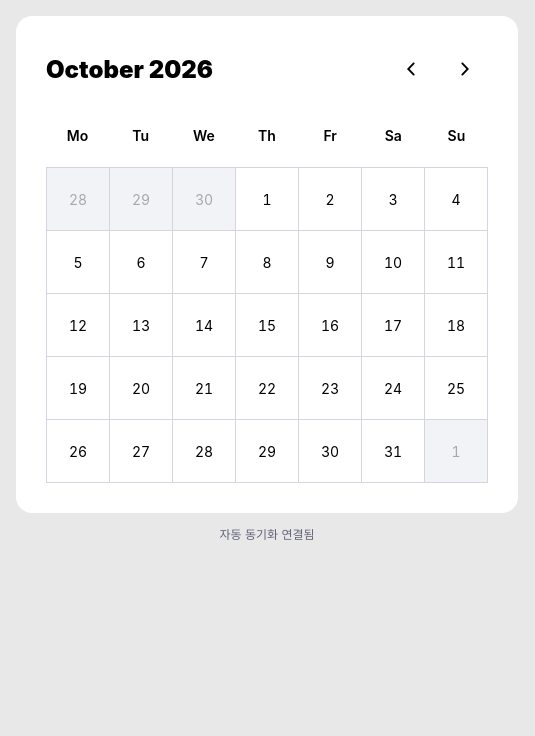
Scenario: 초기 미선택·기존 저장 키만 삭제·월 이동 초기화·StrictMode 구독 정리
Click the button named "2026년 10월 7일 수요일".
click(204, 262)  # box left=173, top=231, right=235, bottom=293
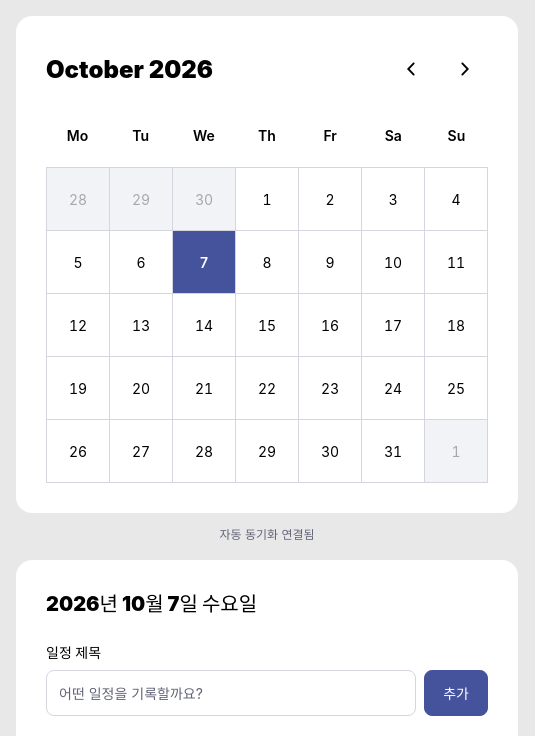
Expected: the field is enabled, left=46, top=670, right=416, bottom=716
Click the button named "다음 달".
click(465, 69)  # box left=442, top=46, right=488, bottom=92
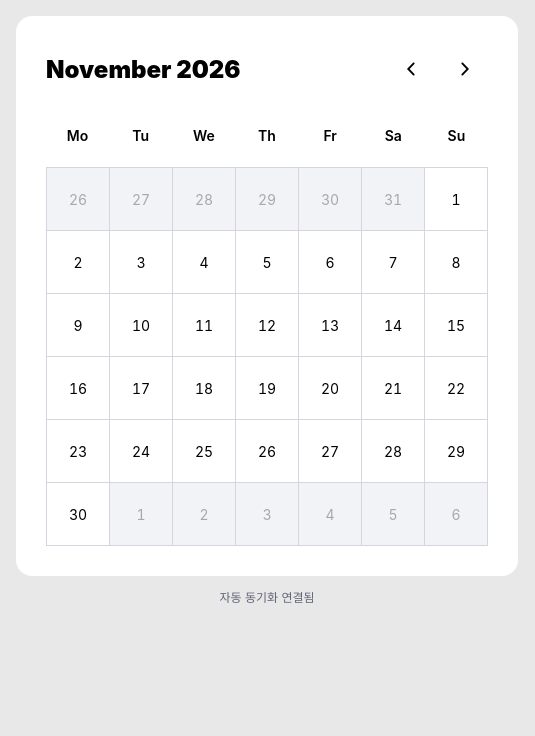
Expected: the field is gone
